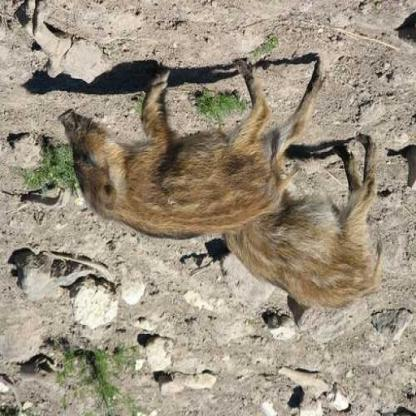boar: (42, 51, 318, 254), (214, 148, 385, 340)
